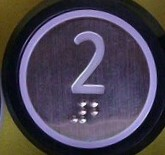Braille: (73, 102, 87, 125), (91, 102, 105, 125)
